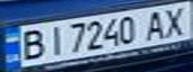0: (118, 12, 142, 45)
2: (84, 17, 106, 52)
4: (103, 15, 124, 47)
7: (63, 20, 87, 54)
A: (139, 8, 172, 41)
B: (15, 26, 48, 61)
I: (42, 22, 69, 56)
X: (157, 3, 193, 38)
